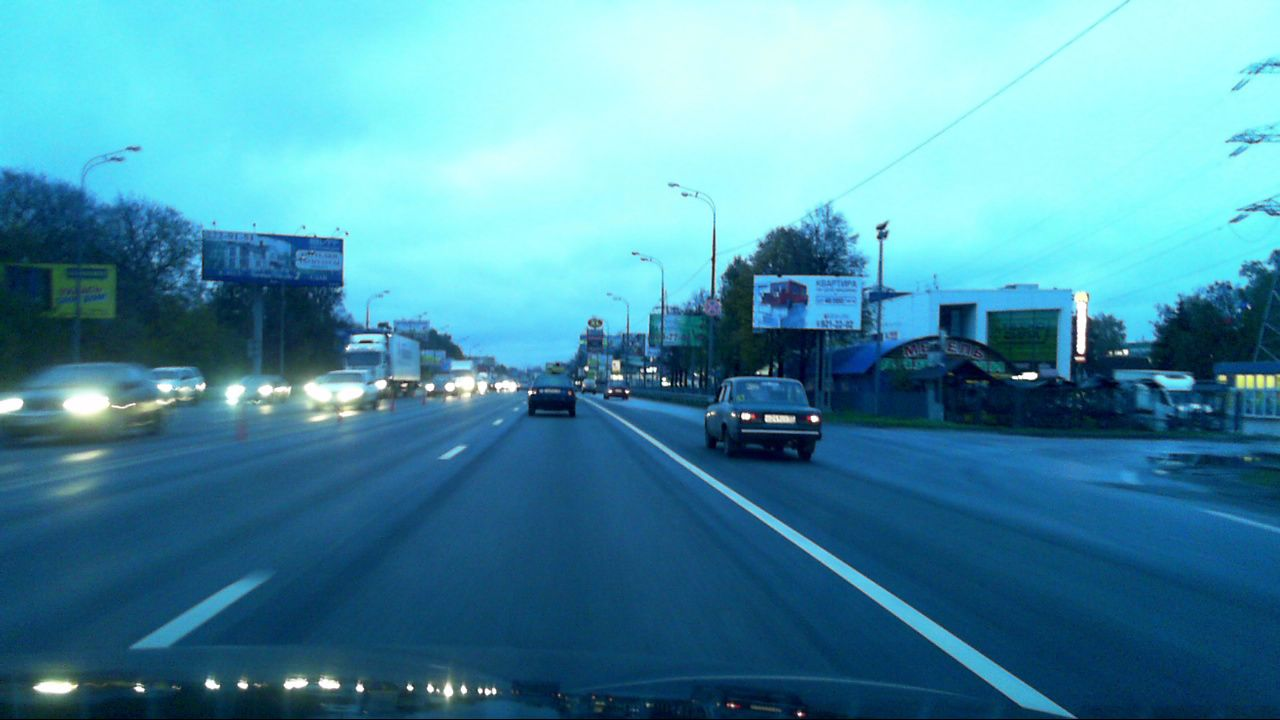No Parking: (703, 299, 720, 316)
